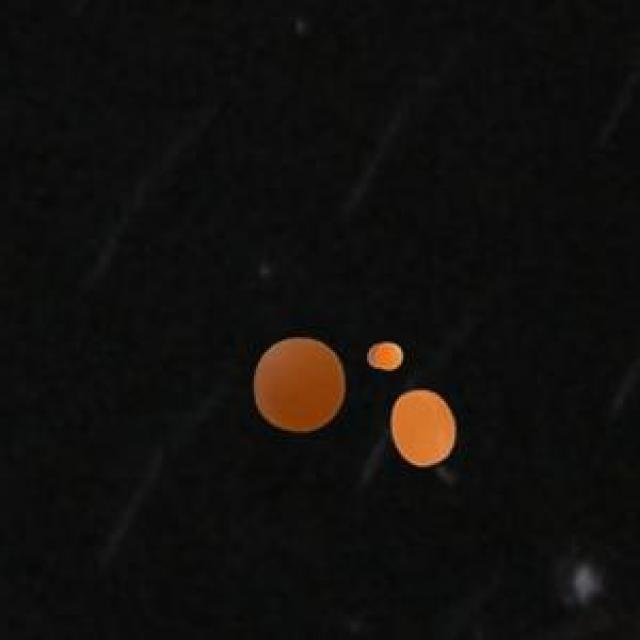Bactidol: (243, 306, 356, 446), (376, 381, 477, 478), (365, 328, 409, 380)
